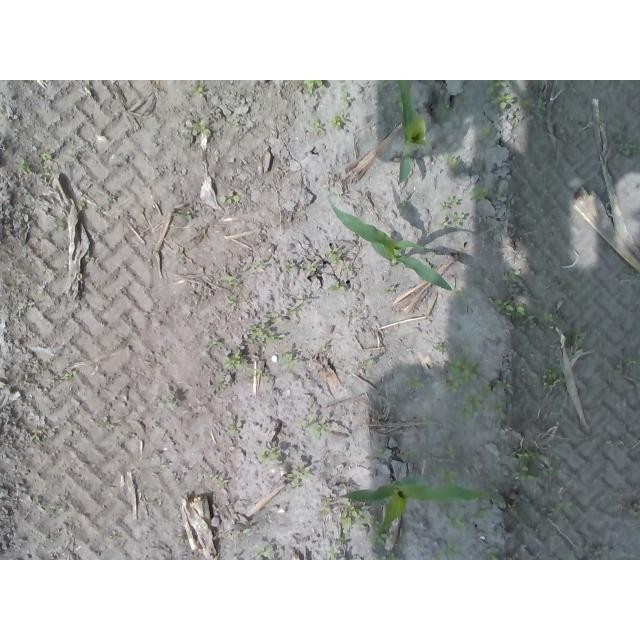Maize: (325, 192, 452, 293), (330, 479, 482, 530), (396, 80, 432, 186)
Weeds: (434, 341, 514, 429), (493, 297, 556, 324), (515, 450, 561, 483), (484, 81, 532, 112), (250, 313, 287, 344), (287, 462, 313, 488), (341, 502, 367, 527), (326, 249, 351, 275), (303, 414, 329, 439), (543, 366, 568, 389), (432, 466, 460, 486), (546, 498, 575, 514), (224, 272, 238, 305), (256, 447, 279, 466), (379, 447, 418, 458), (442, 441, 460, 464), (500, 267, 524, 284), (371, 519, 386, 546), (191, 120, 214, 137), (436, 544, 460, 560), (447, 512, 466, 532), (16, 157, 33, 178), (253, 545, 276, 560), (405, 374, 426, 390), (219, 191, 241, 206), (439, 196, 462, 210), (223, 352, 241, 369), (471, 188, 491, 203), (302, 81, 322, 96), (617, 134, 632, 154), (280, 351, 295, 370), (622, 356, 638, 371), (327, 113, 342, 129), (338, 91, 353, 107), (449, 212, 464, 227), (310, 116, 321, 136), (191, 85, 206, 99), (159, 395, 174, 409), (535, 98, 549, 113), (319, 498, 332, 514), (447, 155, 461, 169), (205, 336, 219, 349), (29, 430, 43, 443), (391, 91, 401, 109), (208, 473, 224, 484), (325, 549, 339, 560), (328, 284, 345, 293), (38, 151, 50, 163), (40, 172, 52, 184), (177, 534, 190, 545), (283, 261, 294, 274), (381, 287, 395, 297), (477, 509, 489, 520), (437, 217, 448, 229), (179, 210, 191, 221), (439, 103, 451, 114), (77, 200, 88, 212), (381, 552, 395, 561), (230, 424, 239, 436), (59, 222, 68, 234), (486, 552, 499, 560), (63, 374, 73, 383)
